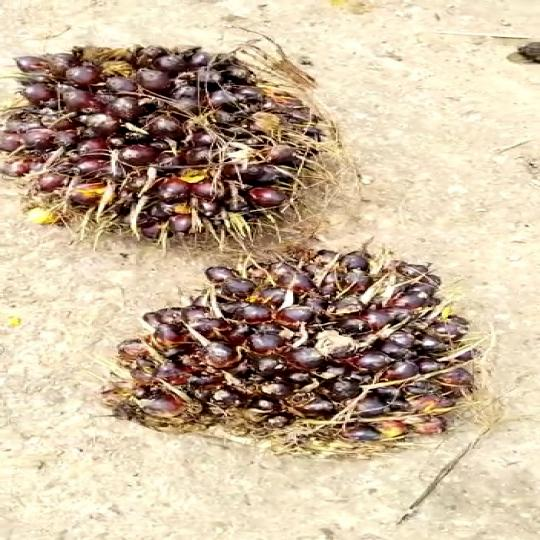kurang masak: (119, 250, 492, 465), (1, 41, 330, 255)
